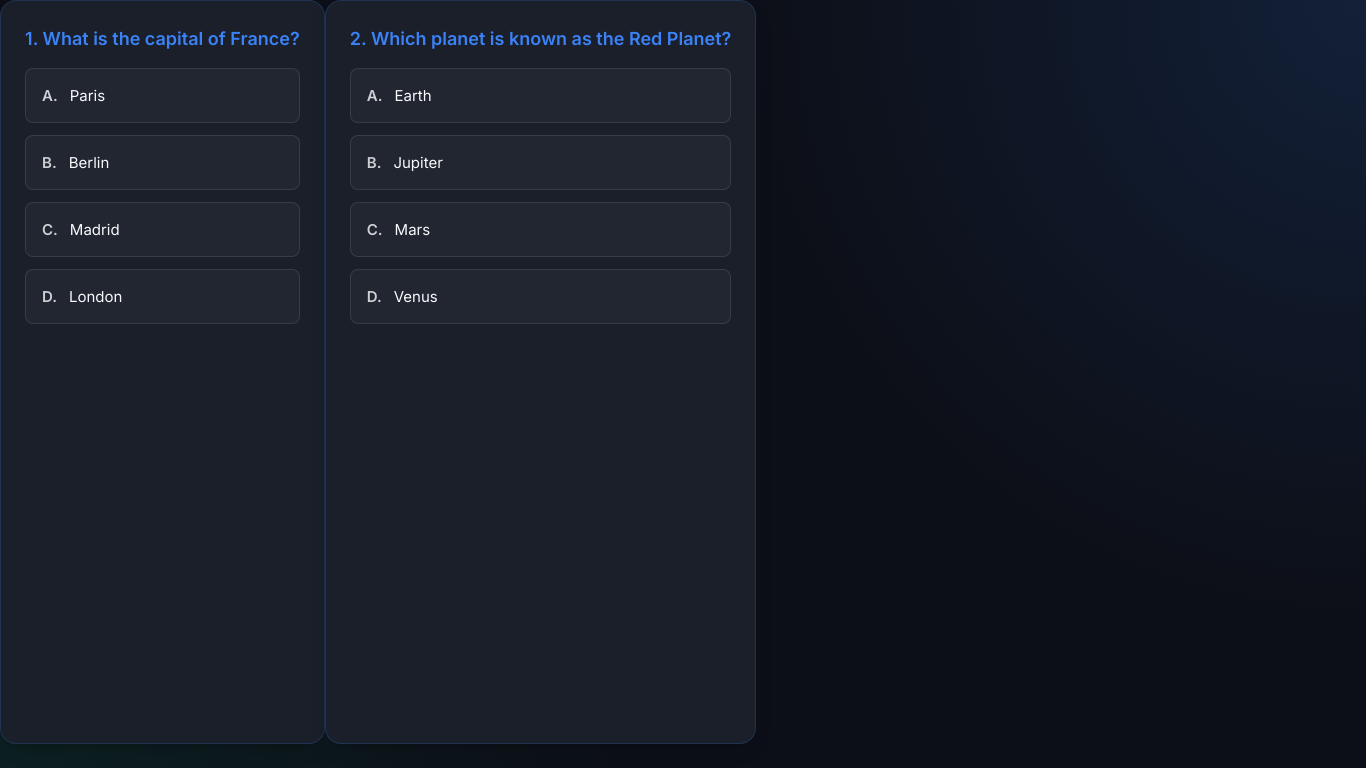
Test case: QuestionCard Component › evaluates shuffled answers independently and keeps each explanation
Click the text "Paris": (87, 96) [70,85,105,106]
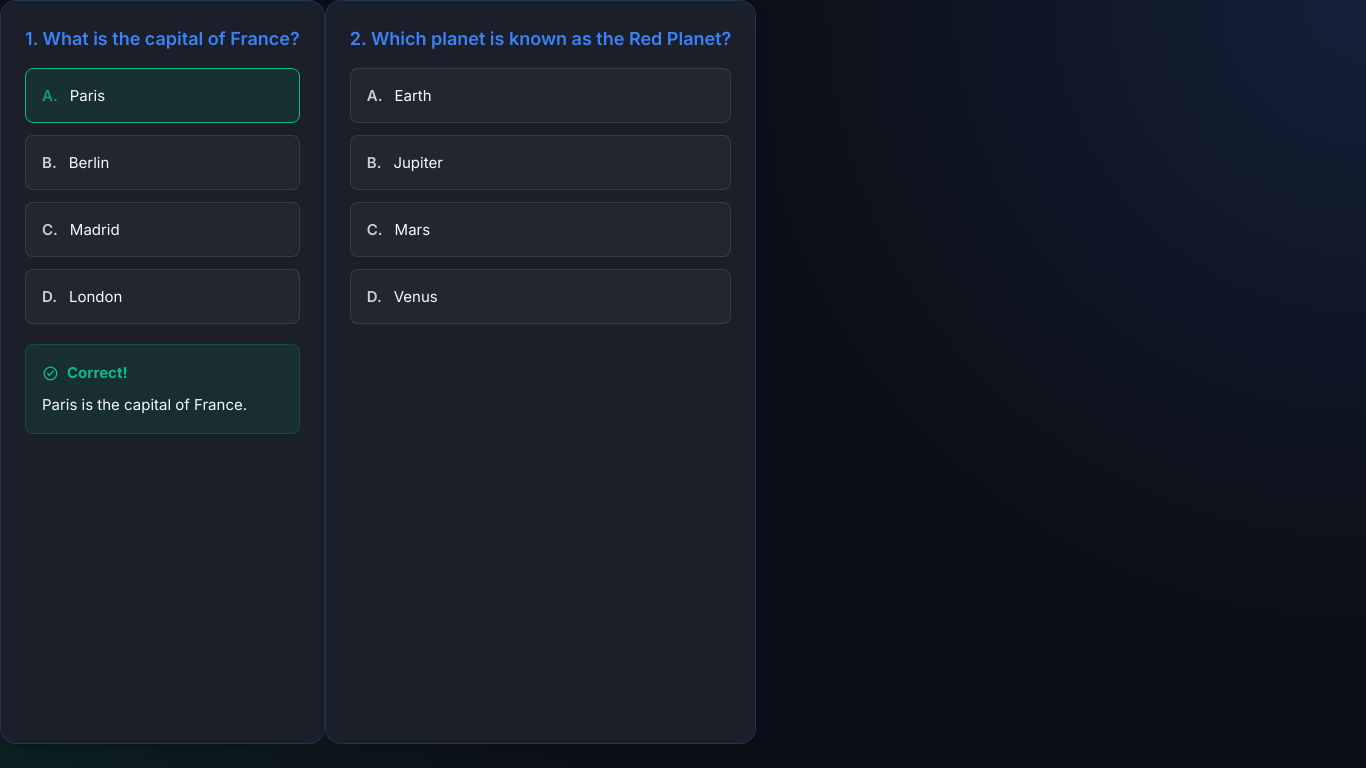
Check: the text "Correct!" is shown, box [67,361,128,385]
Check: the text "Paris is the capital of France." is shown, box [42,393,283,417]
Click the text "Earth": (413, 96) [394,85,432,106]
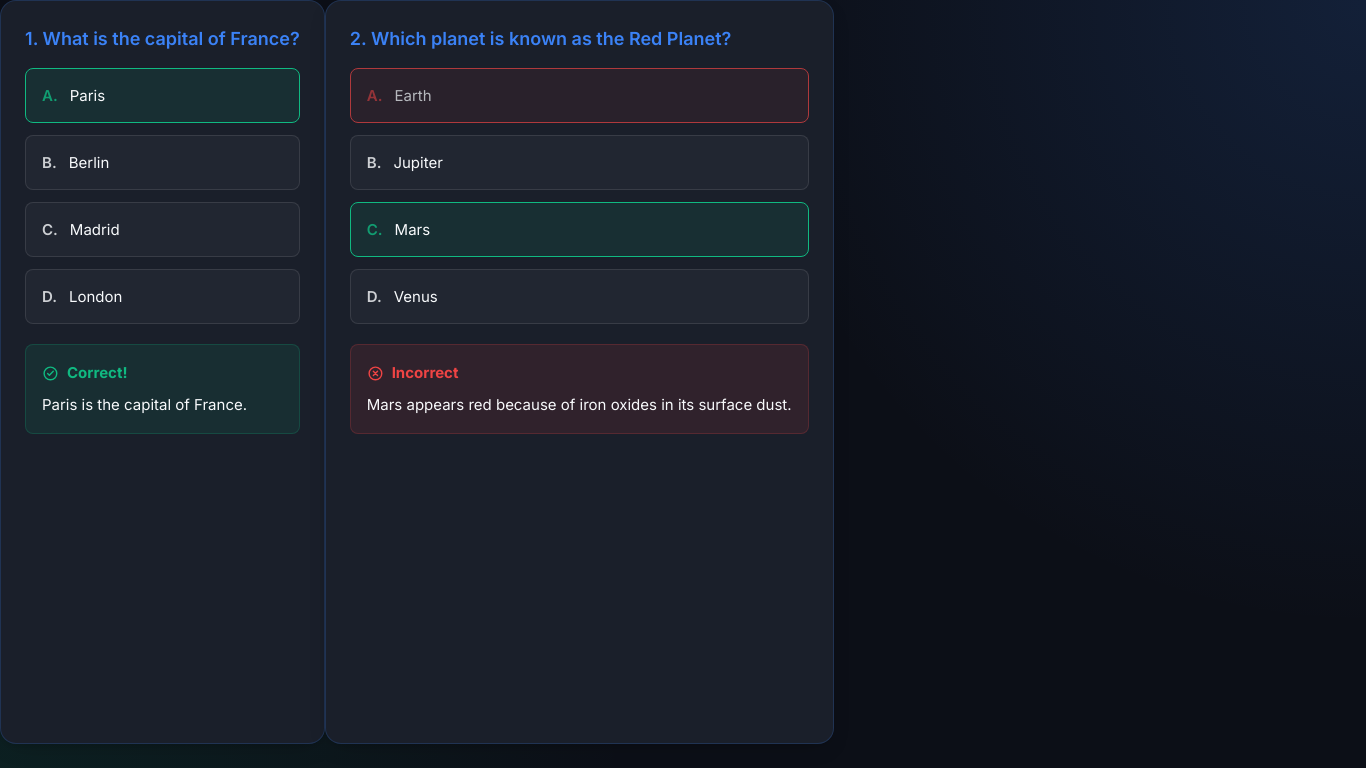
Check: the text "Incorrect" is shown, box [392,361,458,385]
Check: the text "Mars appears red because of iron oxides in its surface dust." is shown, box [367,393,792,417]
